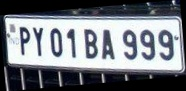character: (157, 29, 174, 61), (139, 28, 155, 61), (121, 29, 138, 60), (101, 28, 116, 60), (83, 28, 98, 58), (49, 27, 63, 56), (32, 26, 44, 57), (65, 28, 77, 58), (19, 26, 30, 56)
